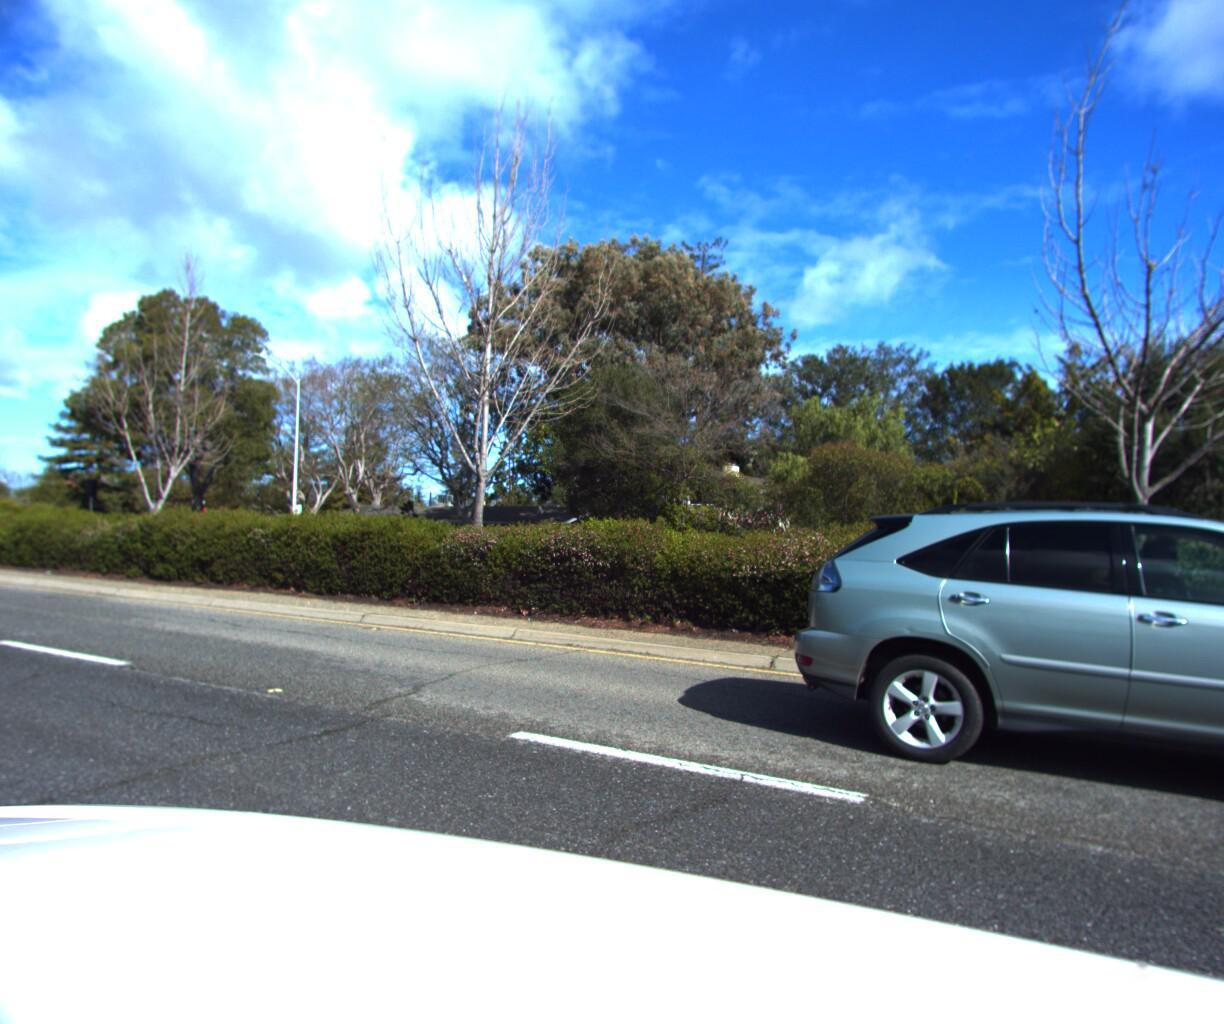car: (769, 498, 1224, 888), (0, 494, 16, 696)
